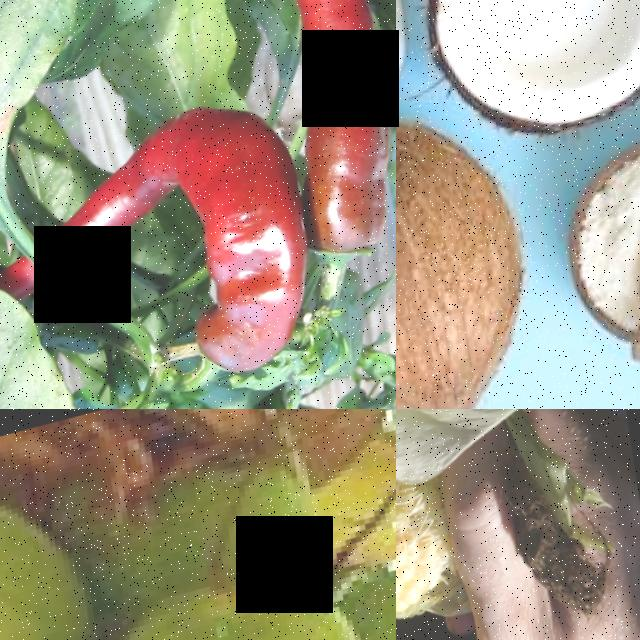chilli: (153, 87, 324, 392), (245, 0, 396, 285)
coconut: (396, 88, 550, 409), (411, 0, 640, 176), (66, 564, 396, 640)
